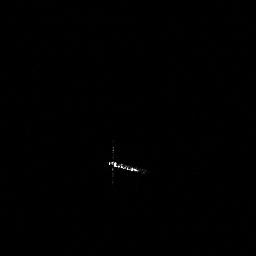ship: (108, 160, 139, 172)
